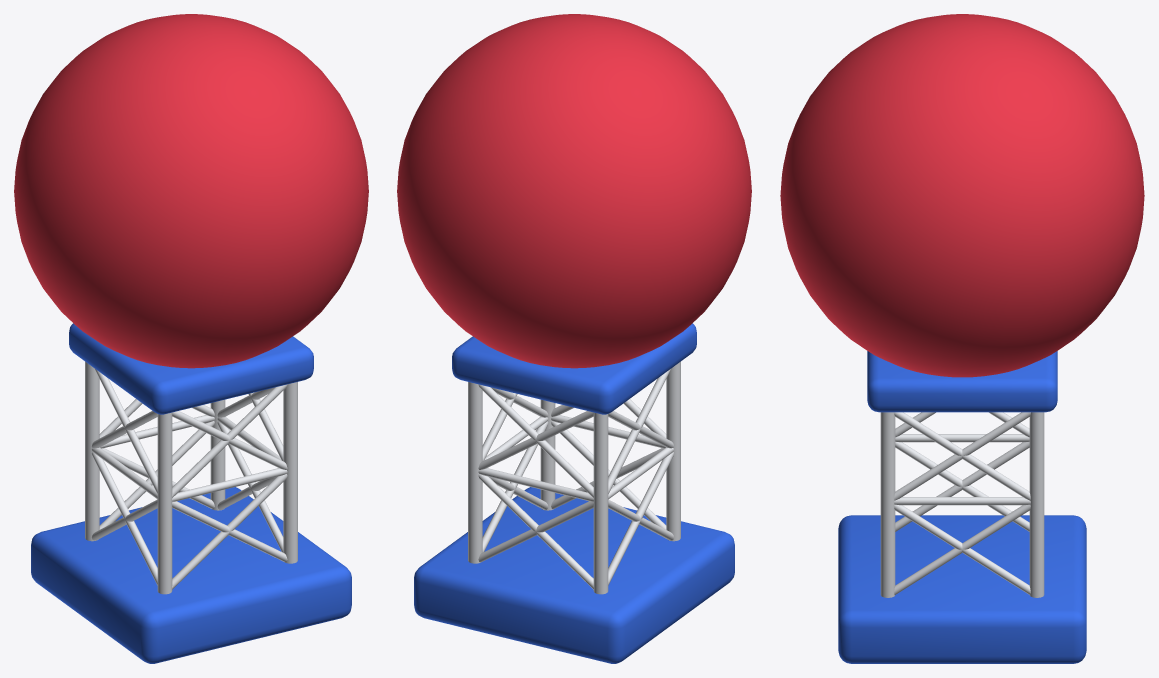
Rendered from SD_BallMount.fbx.
The picture shows the model from 3 angles, left to right: view 1: azimuth 30°, elevation 25°; view 2: azimuth 150°, elevation 25°; view 3: azimuth 270°, elevation 25°; orthographic projection. The views are drawn at different scales.
Visible parts, largest first — view 1: Ball, BallMount; view 2: Ball, BallMount; view 3: Ball, BallMount.
Boxes of the visible parts, x1,y1,x2,y2 form: Ball: [14, 14, 368, 368]; BallMount: [31, 323, 351, 663]; Ball: [397, 14, 751, 368]; BallMount: [414, 323, 734, 663]; Ball: [780, 14, 1144, 377]; BallMount: [838, 351, 1086, 663].
Size of the model in its own units: 2.2 by 3.9 by 2.2.
